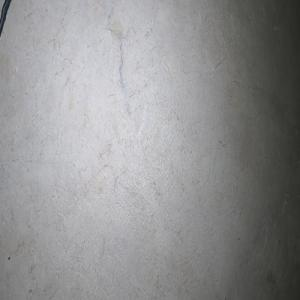Wire: (0, 0, 11, 38)
